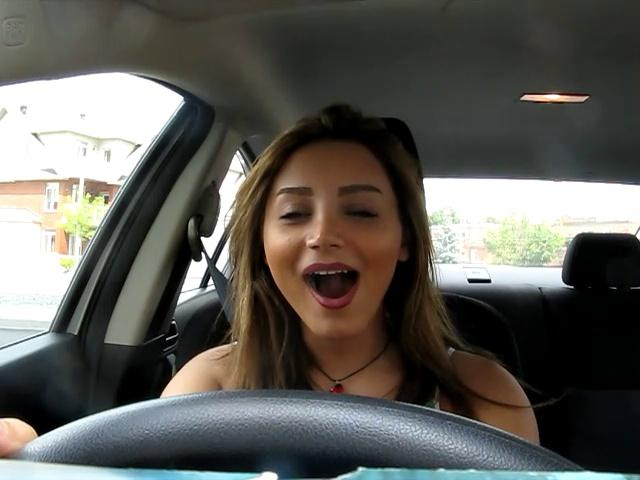close_eyeL: (268, 197, 319, 234)
close_eyeR: (333, 199, 390, 230)
yawn: (290, 257, 372, 310)
